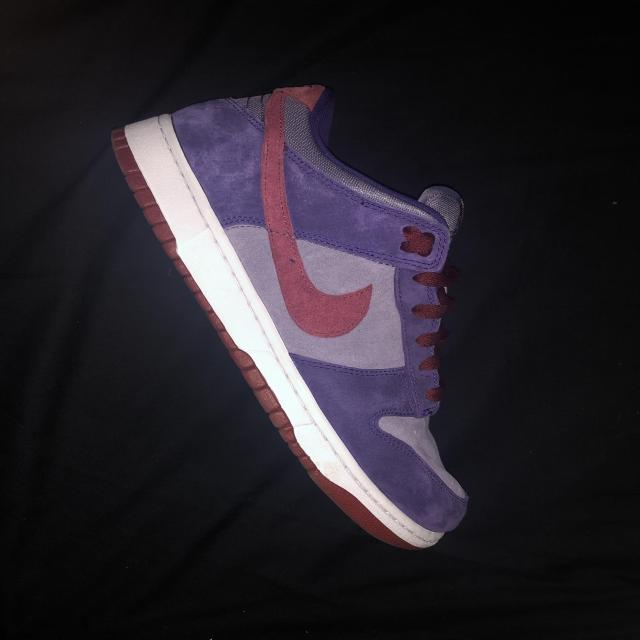shoe: (106, 84, 477, 554)
